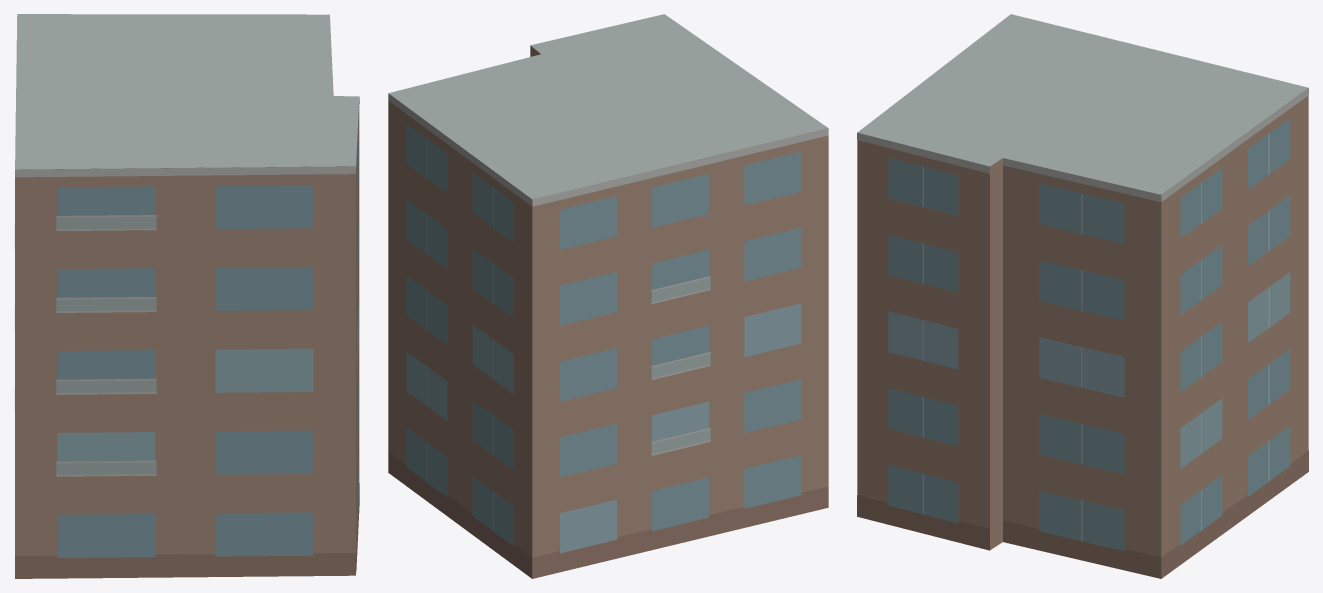
The model's file is survey-upis-32680397.glb.
3 views of the same model, side by side, from view 1: azimuth 30°, elevation 25°; view 2: azimuth 150°, elevation 25°; view 3: azimuth 270°, elevation 25° (orthographic). The views are drawn at different scales.
Parts seen in each view (by area): view 1: survey-upis-32680397.tmp; view 2: survey-upis-32680397.tmp; view 3: survey-upis-32680397.tmp.
Part boxes in pixels (box(x1,y1,x2,y2)): survey-upis-32680397.tmp: box(14, 14, 359, 578); survey-upis-32680397.tmp: box(388, 14, 828, 578); survey-upis-32680397.tmp: box(857, 14, 1308, 578).
Size of the model in its own units: 12.89 by 12.75 by 13.6.
